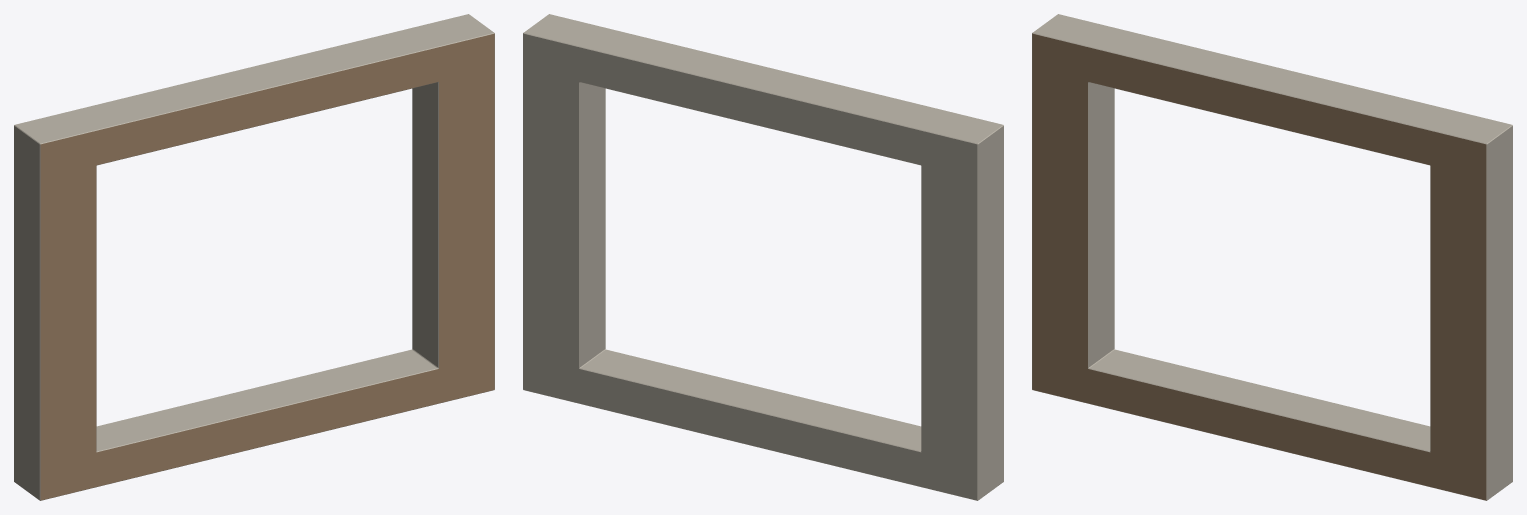
The model's file is arch_wall_ext_shop_w400_h300.glb.
3 views of the same model, side by side, from view 1: azimuth 30°, elevation 25°; view 2: azimuth 150°, elevation 25°; view 3: azimuth 330°, elevation 25° (orthographic).
Visible parts, largest first — view 1: Wall; view 2: Wall; view 3: Wall.
Boxes of the visible parts, left/top/right/bottom form: Wall: left=14, top=14, right=494, bottom=500; Wall: left=523, top=14, right=1003, bottom=500; Wall: left=1032, top=14, right=1512, bottom=500.
Size of what is drawn, in the model's own units: 4 by 3 by 0.4.
